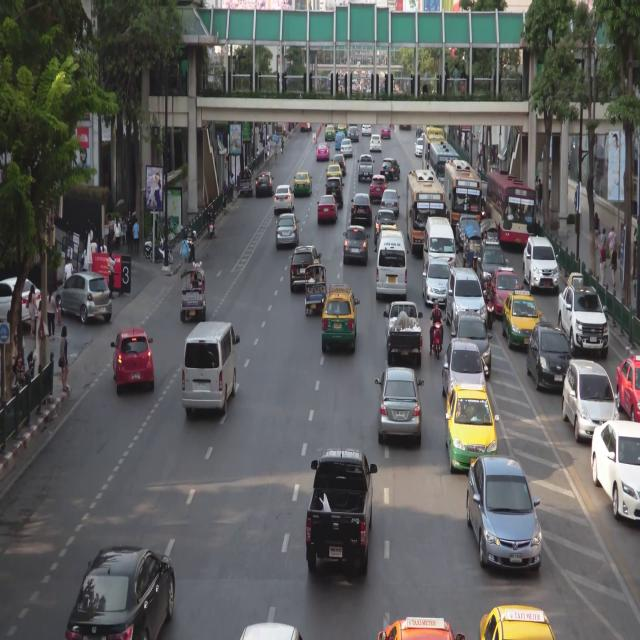bus: (486, 165, 535, 248), (440, 156, 483, 241), (406, 169, 448, 253), (426, 136, 455, 190), (420, 120, 443, 168)
car: (64, 539, 178, 640), (304, 444, 380, 588), (466, 454, 546, 577), (179, 317, 242, 419), (591, 416, 640, 525), (561, 357, 618, 446), (556, 278, 612, 351), (375, 368, 424, 443), (110, 324, 159, 398), (52, 266, 114, 323), (527, 320, 572, 387), (382, 300, 425, 367), (442, 339, 487, 398), (449, 313, 491, 376), (447, 265, 486, 331), (375, 230, 410, 301), (175, 257, 211, 323), (0, 270, 42, 324), (523, 233, 562, 291), (423, 216, 456, 279), (235, 616, 304, 640), (424, 256, 454, 309), (302, 257, 326, 319), (475, 238, 507, 282), (340, 224, 369, 264), (291, 241, 317, 284), (274, 209, 299, 251), (351, 188, 374, 223), (270, 183, 297, 207), (456, 214, 479, 242), (315, 195, 341, 219), (380, 151, 400, 182), (255, 167, 275, 197), (238, 168, 256, 195), (374, 207, 395, 230), (357, 153, 375, 179), (371, 171, 385, 203), (381, 188, 399, 211), (333, 131, 346, 151), (379, 126, 394, 142), (347, 126, 360, 143), (370, 133, 383, 149), (341, 139, 354, 153), (415, 136, 423, 158), (361, 125, 374, 137)
pedestrian: (57, 325, 72, 400), (106, 248, 118, 301), (27, 283, 38, 339), (47, 286, 56, 343), (63, 253, 74, 286), (132, 216, 141, 256), (610, 242, 618, 287), (599, 242, 607, 286), (180, 231, 189, 270), (113, 215, 122, 251), (608, 224, 617, 258), (81, 242, 90, 275), (593, 210, 601, 247), (536, 175, 544, 210), (600, 225, 608, 255), (90, 232, 98, 253), (100, 236, 108, 254), (38, 300, 42, 330), (548, 173, 551, 202)
taxi: (447, 377, 501, 477), (475, 600, 558, 640), (320, 280, 361, 360), (506, 285, 542, 354), (376, 614, 467, 640), (615, 344, 640, 424), (490, 263, 521, 313), (293, 169, 314, 199), (325, 159, 343, 181), (324, 121, 335, 142), (337, 122, 348, 134)
